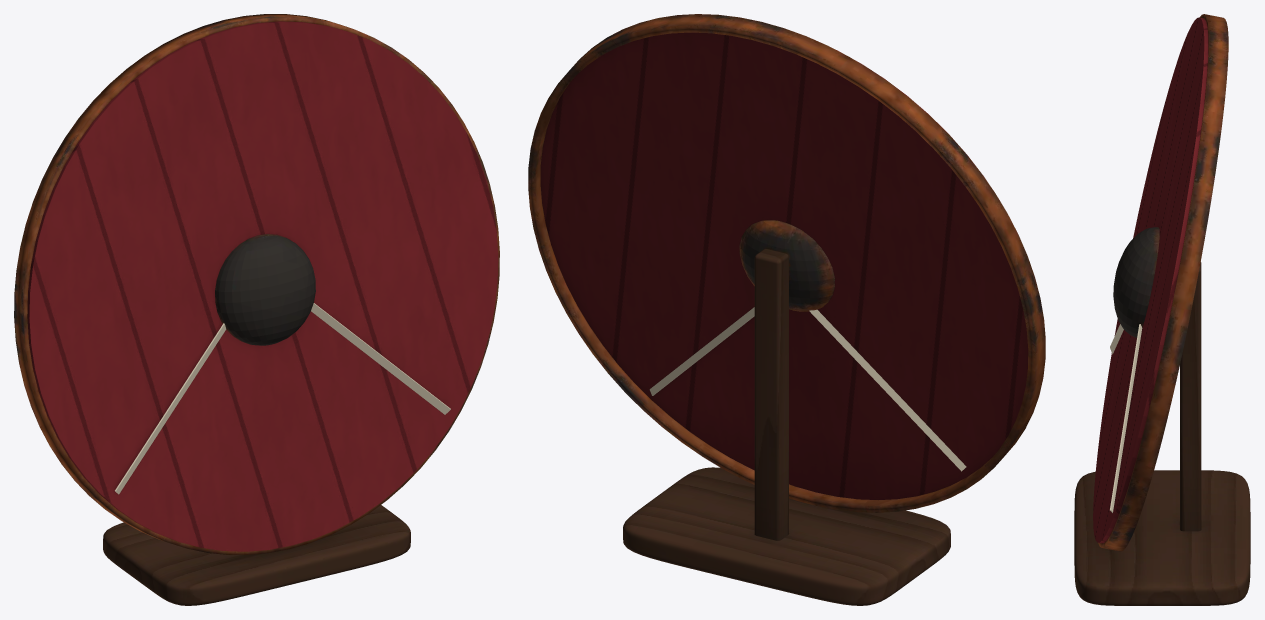
File: viking-red.glb
The picture shows the model from 3 angles, left to right: view 1: azimuth 30°, elevation 25°; view 2: azimuth 150°, elevation 25°; view 3: azimuth 270°, elevation 25°; orthographic projection. The views are drawn at different scales.
Parts seen in each view (by area): view 1: paint_primary_shield, iron, wood_x, shield_paint; view 2: paint_primary_shield, iron, wood_x, wood_z, shield_paint; view 3: paint_primary_shield, wood_x, iron, wood_z, shield_paint.
Part boxes in pixels (x1,y1,x2,y2): paint_primary_shield: (27,21,498,551); iron: (14,14,499,554); wood_x: (103,505,410,605); shield_paint: (115,303,450,494); paint_primary_shield: (540,32,1028,499); iron: (528,14,1045,512); wood_x: (623,467,950,605); wood_z: (754,249,788,540); shield_paint: (649,307,966,471); paint_primary_shield: (1093,17,1208,543); wood_x: (1074,470,1250,605); iron: (1098,14,1228,551); wood_z: (1180,262,1201,531); shield_paint: (1110,324,1142,512).
Bounding box in the file's own units: 0.772 × 0.8005 × 0.25.
5 materials, 4 textured.
